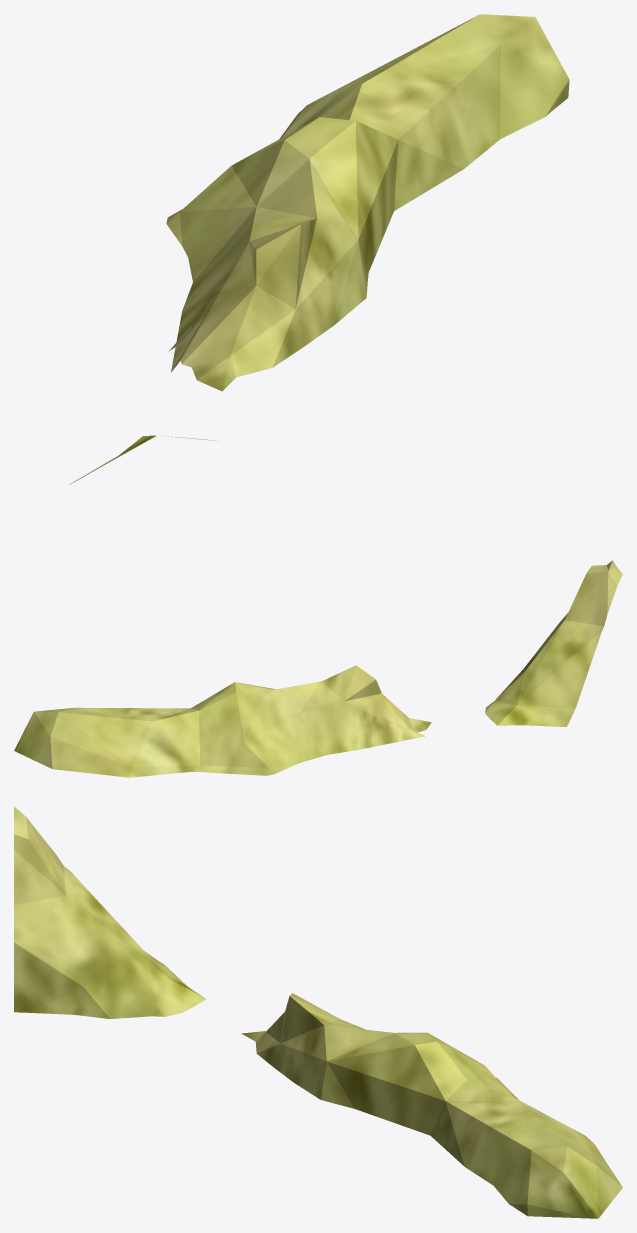
3 views of the same model, one above another, from view 1: azimuth 30°, elevation 25°; view 2: azimuth 150°, elevation 25°; view 3: azimuth 270°, elevation 25° (orthographic). The views are drawn at different scales.
Bounding box in the file's own units: 1.37 × 0.4146 × 1.39.
1 material, 1 textured.
